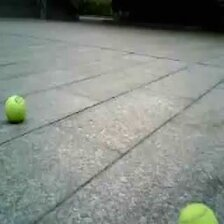tennis: (175, 203, 219, 224), (4, 96, 26, 122)
